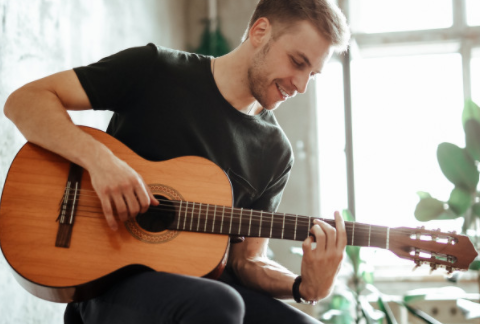fretboard: (174, 201, 387, 249)
